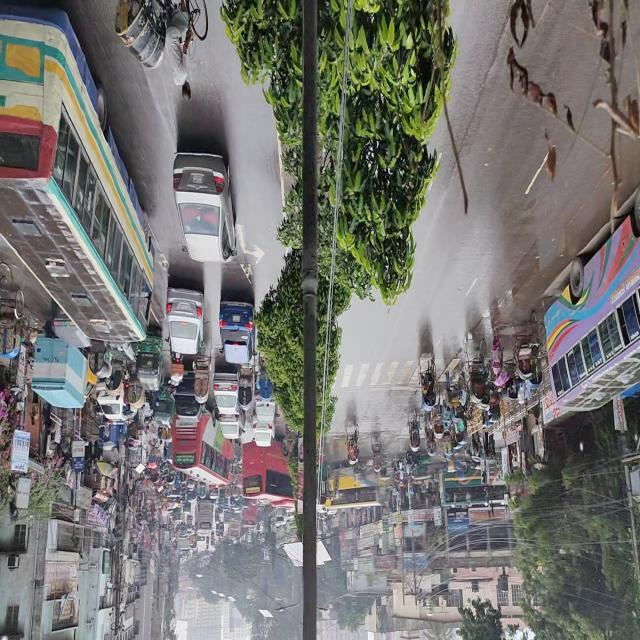black: (169, 368, 207, 422)
blue: (220, 292, 256, 366)
silver: (173, 148, 237, 260), (166, 284, 205, 356), (213, 371, 240, 415)
white: (252, 415, 276, 448)
